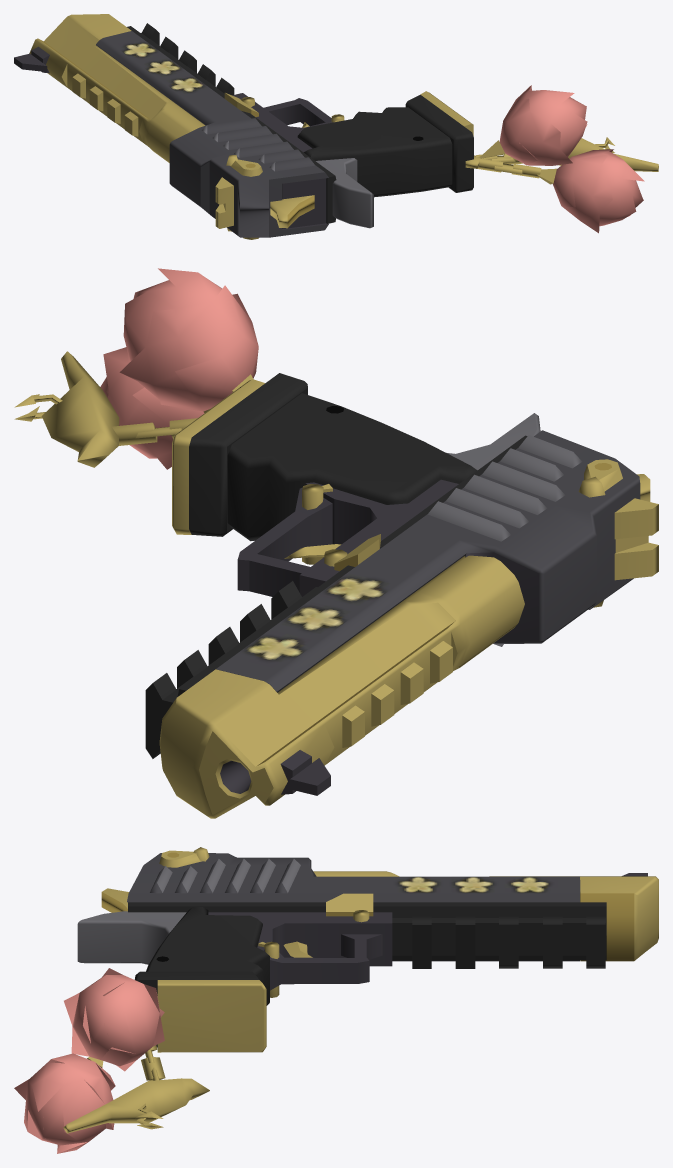
File: mari.glb
3 views of the same model, one above another, from view 1: azimuth 30°, elevation 25°; view 2: azimuth 150°, elevation 25°; view 3: azimuth 270°, elevation 25° (orthographic). The views are drawn at different scales.
Parts seen in each view (by area): view 1: Mari_Original_Weapon; view 2: Mari_Original_Weapon; view 3: Mari_Original_Weapon.
Part boxes in pixels (x1,y1,x2,y2): Mari_Original_Weapon: (14, 14, 658, 239); Mari_Original_Weapon: (14, 268, 658, 818); Mari_Original_Weapon: (14, 847, 658, 1153).
Size of the model in its own units: 0.2421 by 0.0752 by 0.2904.
1 material, 1 textured.
